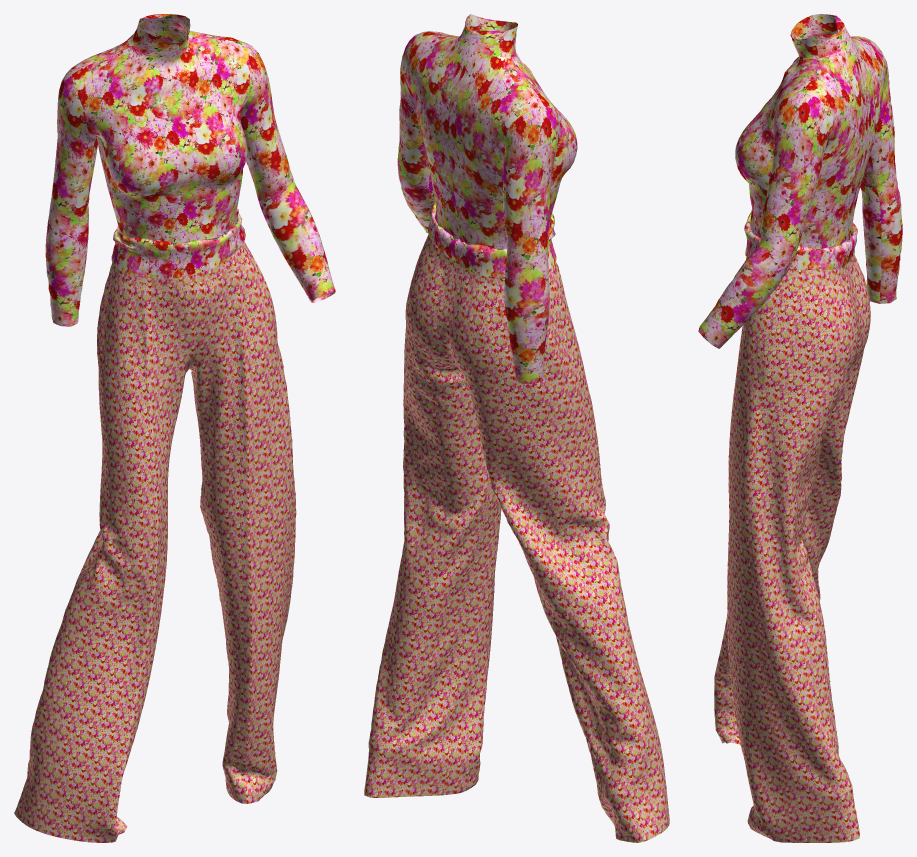
Rendered from DA_HighNeck+WidePants_0000105.obj.
3 renders of one model, left to right at view 1: azimuth 30°, elevation 25°; view 2: azimuth 150°, elevation 25°; view 3: azimuth 270°, elevation 25°, orthographic. The views are drawn at different scales.
Size of the model in its own units: 0.5995 by 1.63 by 0.3889.
